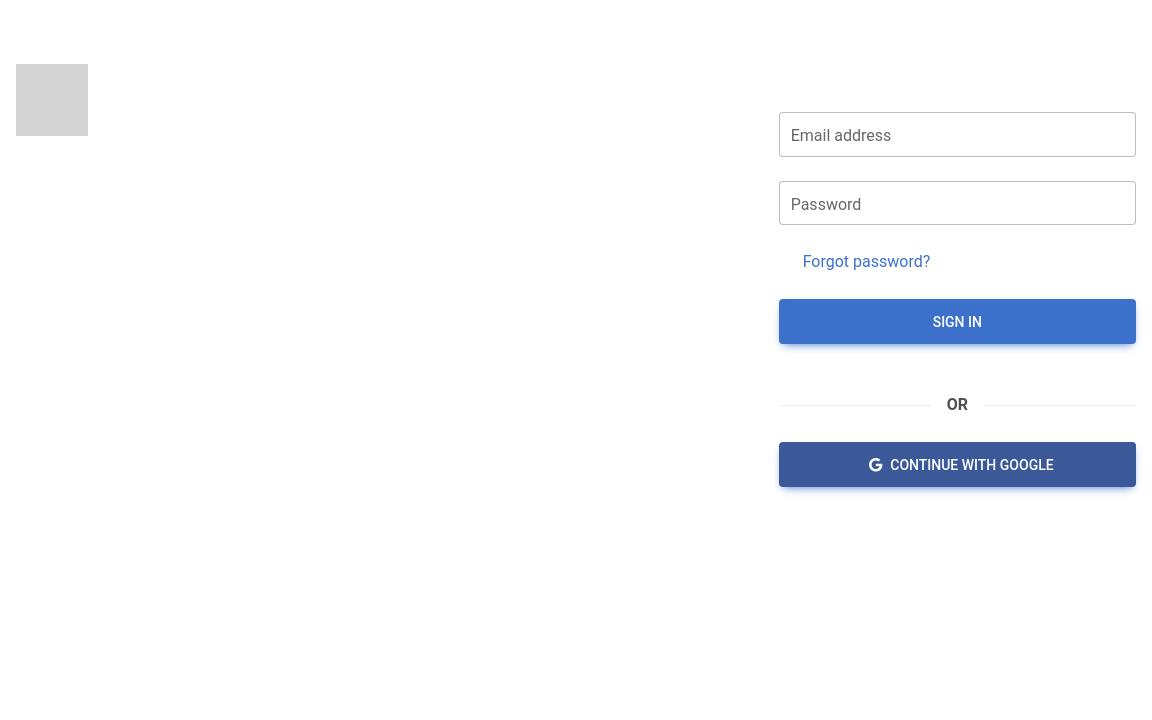
Scenario: Page - Login › Login with incorrect password
Type "testuser1@gmail.com" into the field with id "email" at (958, 135), box [779,112,1136,157]
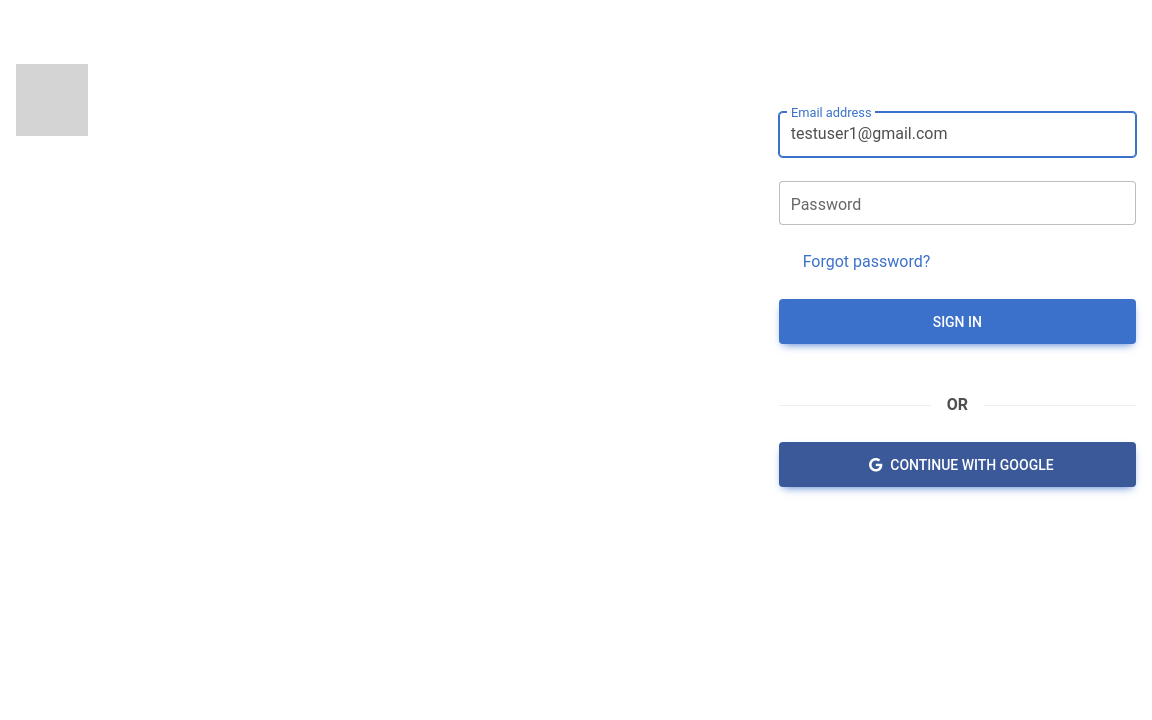
Type "password123" into the password field labelled "Password" at (958, 204), box [779,181,1136,226]
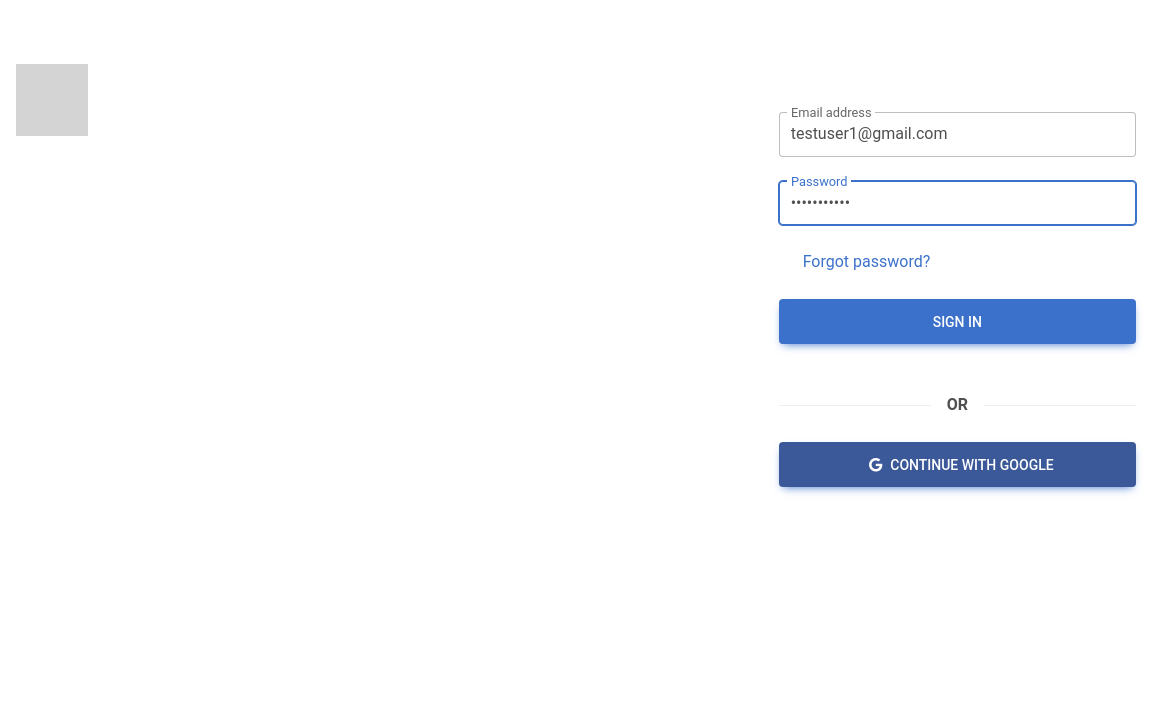
Click the button "Sign in" at (958, 322), box [779,299,1136,344]
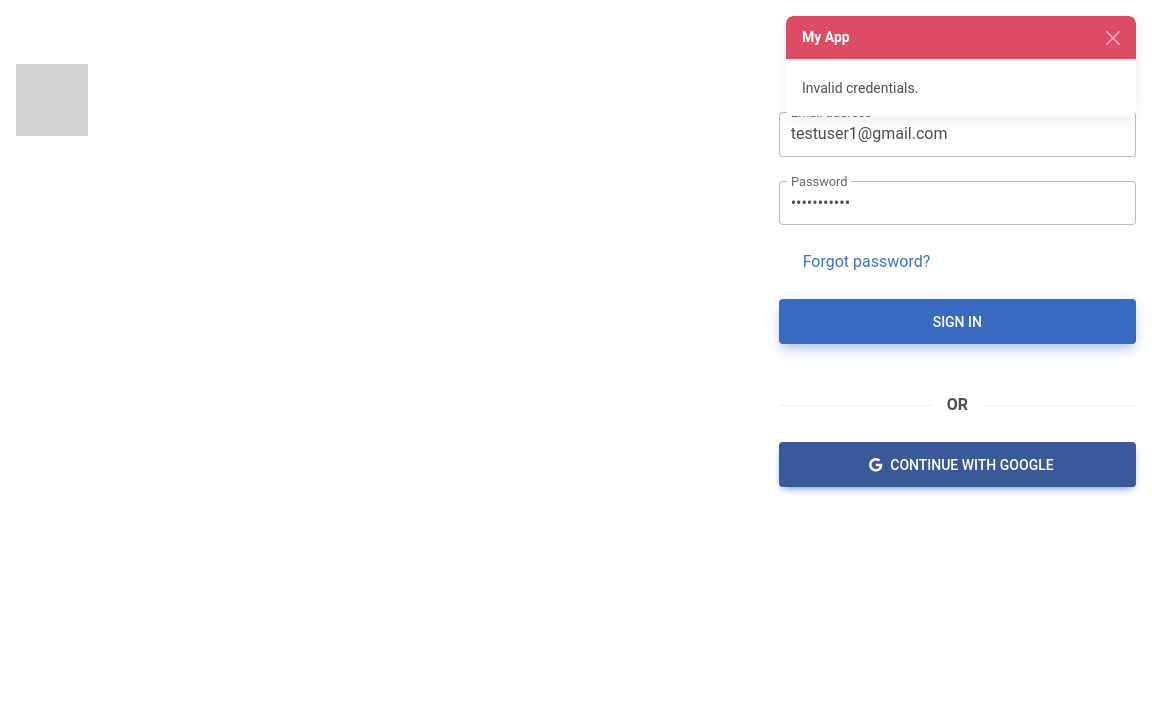
Expected: the text with class "toast-body" shows "Invalid credentials", [802,80,918,96]
